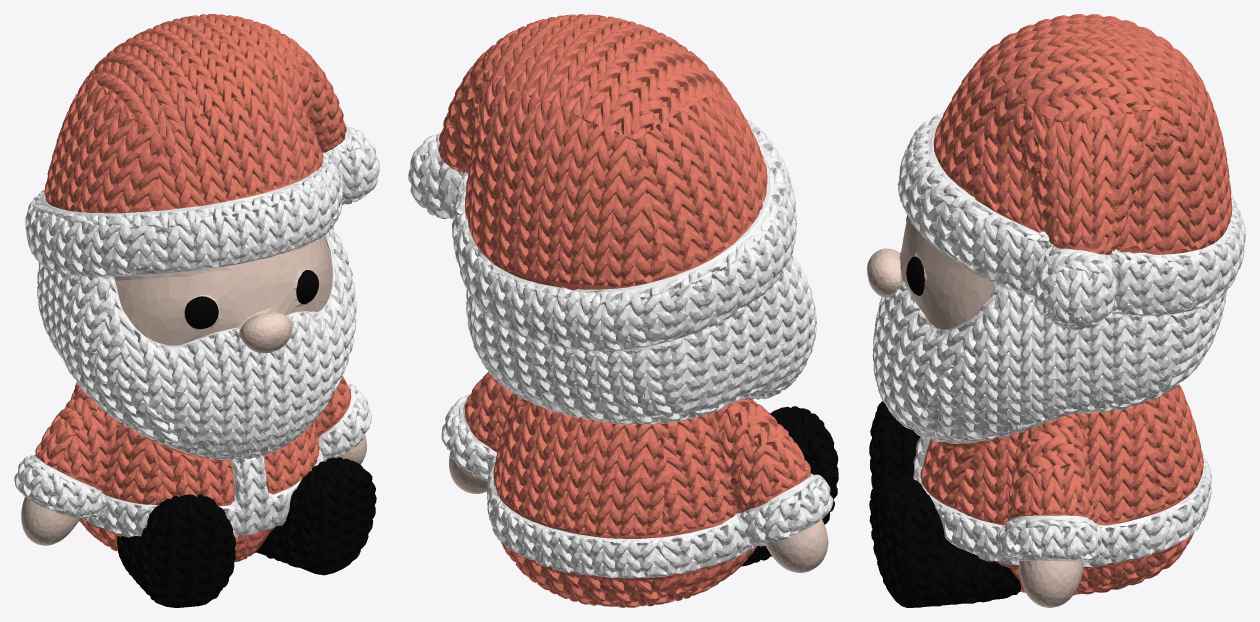
Rendered from papa-noel.glb.
3 views of the same model, side by side, from view 1: azimuth 30°, elevation 25°; view 2: azimuth 150°, elevation 25°; view 3: azimuth 270°, elevation 25° (orthographic). The views are drawn at different scales.
Parts seen in each view (by area): view 1: traje, barba, blanco, botas, piel, ojos; view 2: traje, blanco, barba, botas, piel; view 3: traje, blanco, barba, botas, piel, ojos.
Boxes of the visible parts, box(x1,y1,x2,y2) form: traje: box(35, 14, 351, 562); barba: box(37, 226, 356, 460); blanco: box(14, 126, 379, 537); botas: box(117, 457, 376, 607); piel: box(21, 235, 366, 545); ojos: box(184, 270, 318, 329); traje: box(438, 14, 810, 607); blanco: box(408, 119, 833, 578); barba: box(466, 254, 816, 424); botas: box(742, 406, 838, 566); piel: box(449, 451, 828, 572); traje: box(920, 14, 1232, 595); blanco: box(898, 112, 1245, 567); barba: box(872, 281, 1226, 443); botas: box(869, 401, 1020, 607); piel: box(867, 217, 1083, 607); ojos: box(906, 216, 924, 295).
Size of the model in its own units: 0.0523 by 0.0676 by 0.0427.
